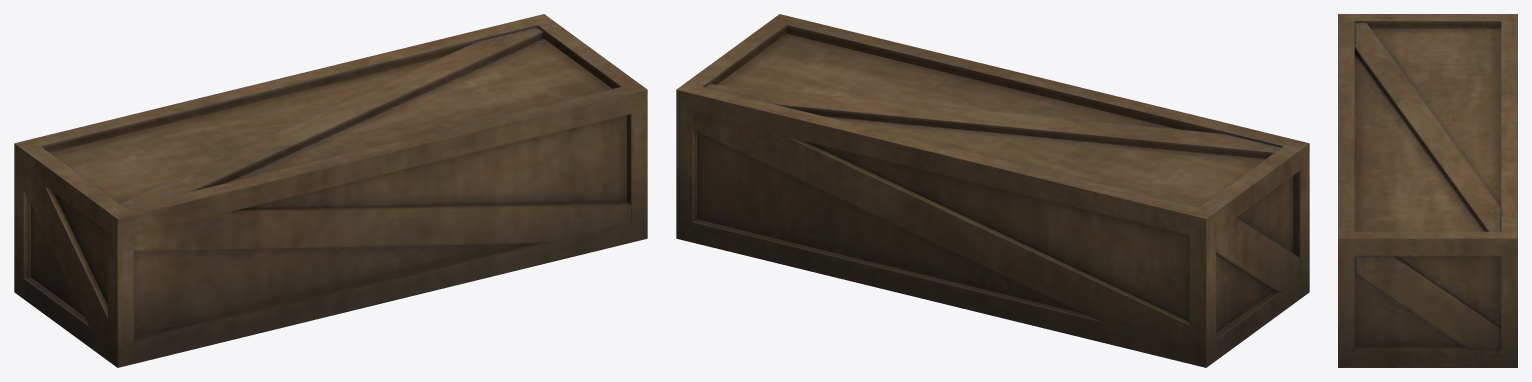
File: SM_crate_02.glb
3 views of the same model, side by side, from view 1: azimuth 30°, elevation 25°; view 2: azimuth 150°, elevation 25°; view 3: azimuth 270°, elevation 25° (orthographic). The views are drawn at different scales.
Visible parts, largest first — view 1: SM_crate_02; view 2: SM_crate_02; view 3: SM_crate_02.
Boxes of the visible parts, box(x1,y1,x2,y2) form: SM_crate_02: box(14, 14, 647, 367); SM_crate_02: box(676, 14, 1309, 367); SM_crate_02: box(1338, 14, 1517, 367).
Bounding box in the file's own units: 1.82 × 0.4887 × 0.6154.
Materials: 1 (1 with a texture image).
